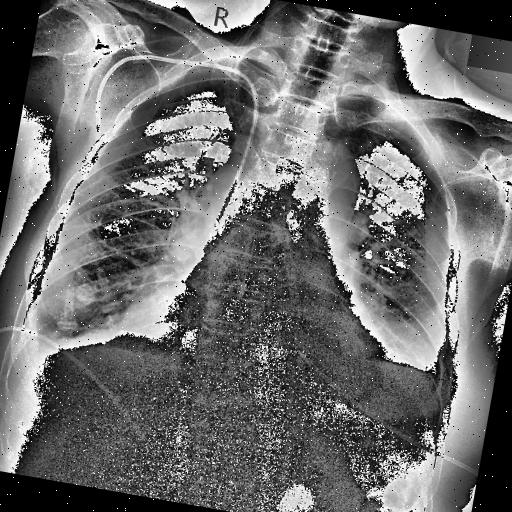0- Aortic enlargement: (271, 126, 370, 258), (285, 129, 367, 217), (308, 139, 366, 216)
10- Pleural effusion: (6, 273, 150, 395), (348, 338, 454, 434), (368, 344, 446, 434), (373, 336, 454, 414), (8, 312, 86, 376), (0, 314, 50, 388)
3- Cardiomegaly: (108, 281, 386, 421), (116, 274, 400, 406), (117, 291, 412, 406)
